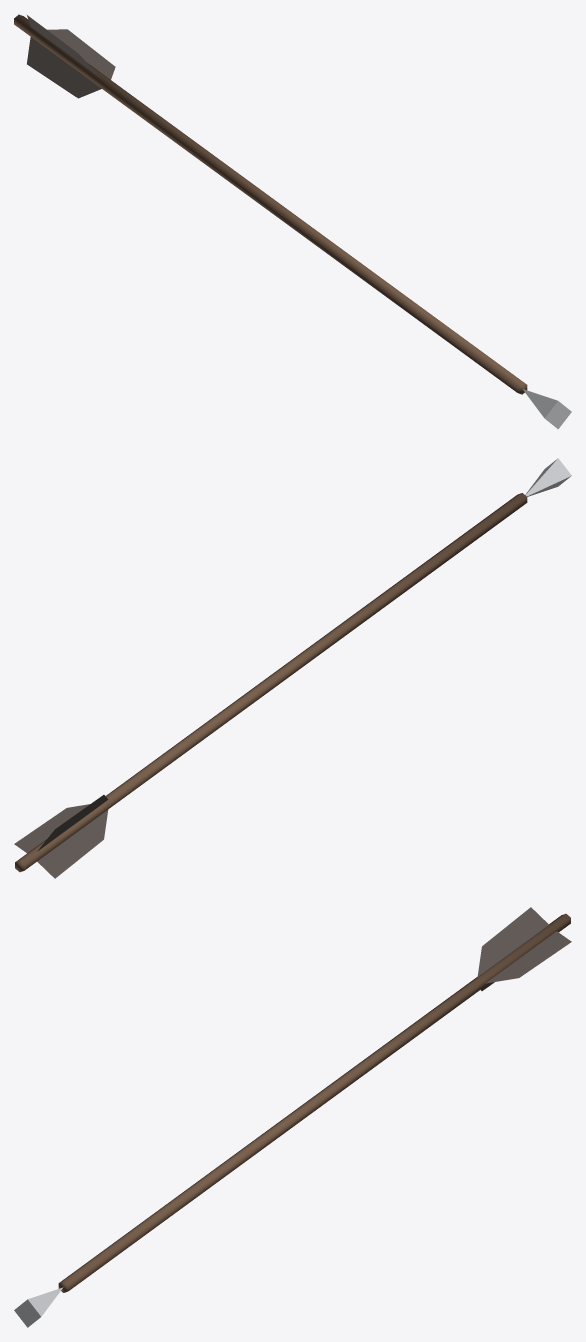
Rendered from arrow_devi.glb.
3 views of the same model, one above another, from view 1: azimuth 30°, elevation 25°; view 2: azimuth 150°, elevation 25°; view 3: azimuth 330°, elevation 25° (orthographic).
Visible parts, largest first — view 1: shaft, fletch.002, fletch, head, fletch.001; view 2: shaft, fletch.002, fletch, head, fletch.001; view 3: shaft, fletch.001, fletch, head.
Part boxes in pixels (box(x1,y1,x2,y2)): shaft: box(14, 14, 527, 394); fletch.002: box(27, 37, 101, 98); fletch: box(47, 29, 115, 79); head: box(522, 389, 571, 429); fletch.001: box(27, 15, 101, 78); shaft: box(15, 493, 527, 872); fletch.002: box(37, 810, 108, 878); fletch: box(14, 804, 89, 853); head: box(525, 458, 571, 496); fletch.001: box(37, 795, 107, 851); shaft: box(58, 913, 570, 1292); fletch.001: box(477, 907, 548, 976); fletch: box(485, 931, 571, 983); head: box(14, 1287, 63, 1327).
Size of the model in its own units: 0.033 by 0.0381 by 0.75.
